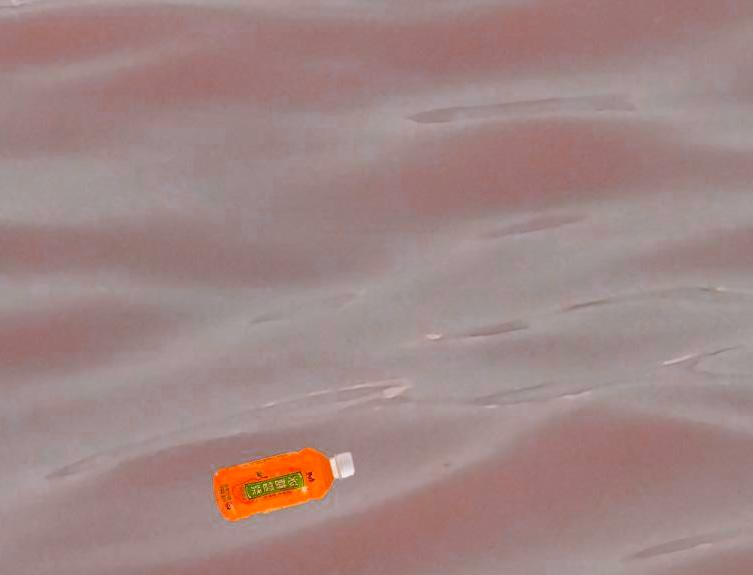Plastic: (209, 445, 360, 526)
